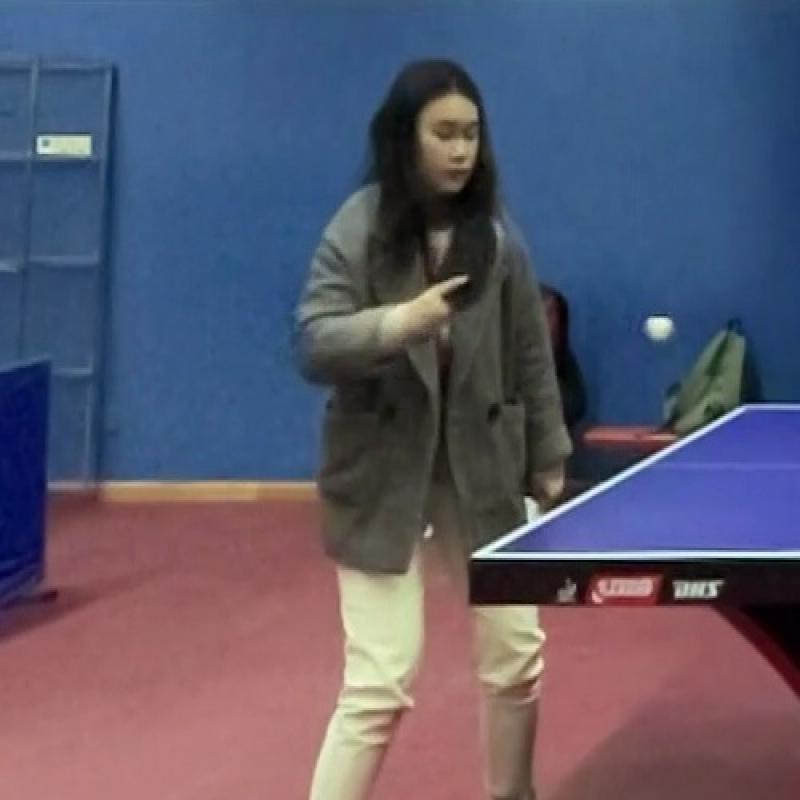bats: (421, 208, 512, 324)
